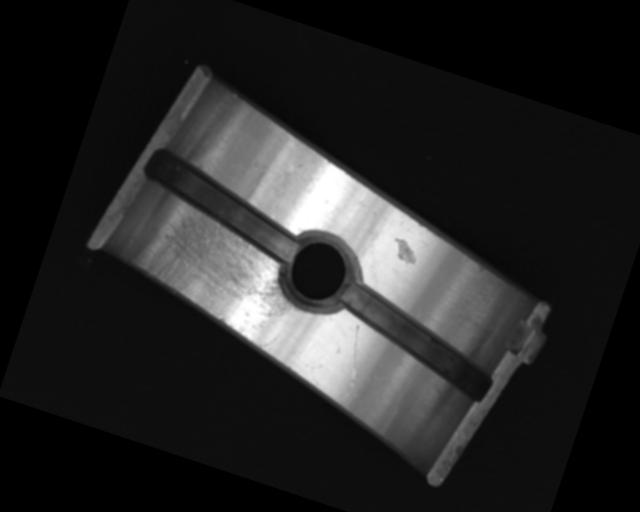bruise: (387, 236, 422, 268)
gap: (326, 277, 508, 402), (131, 144, 314, 264)
hole: (271, 222, 367, 323)
nick: (336, 323, 372, 388)
scratch: (120, 186, 316, 352)
